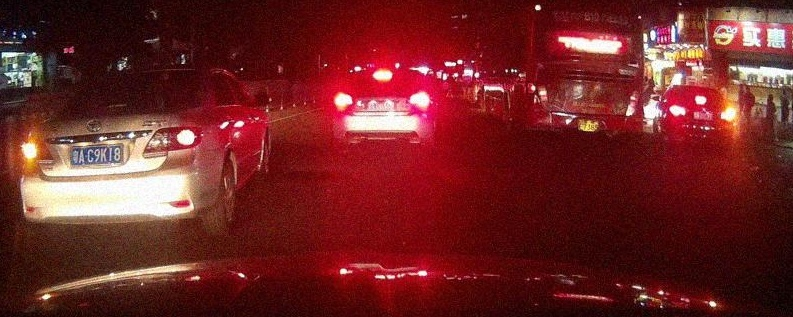L_light: (20, 138, 54, 162), (333, 92, 352, 109), (667, 104, 686, 117)
R_light: (141, 126, 203, 158), (408, 92, 429, 109), (719, 109, 734, 123)
T_light: (105, 102, 129, 110), (372, 71, 392, 79), (693, 95, 707, 105)
night-brake: (332, 65, 434, 148)
night-left: (18, 65, 212, 240)
night-right: (665, 85, 735, 144)
